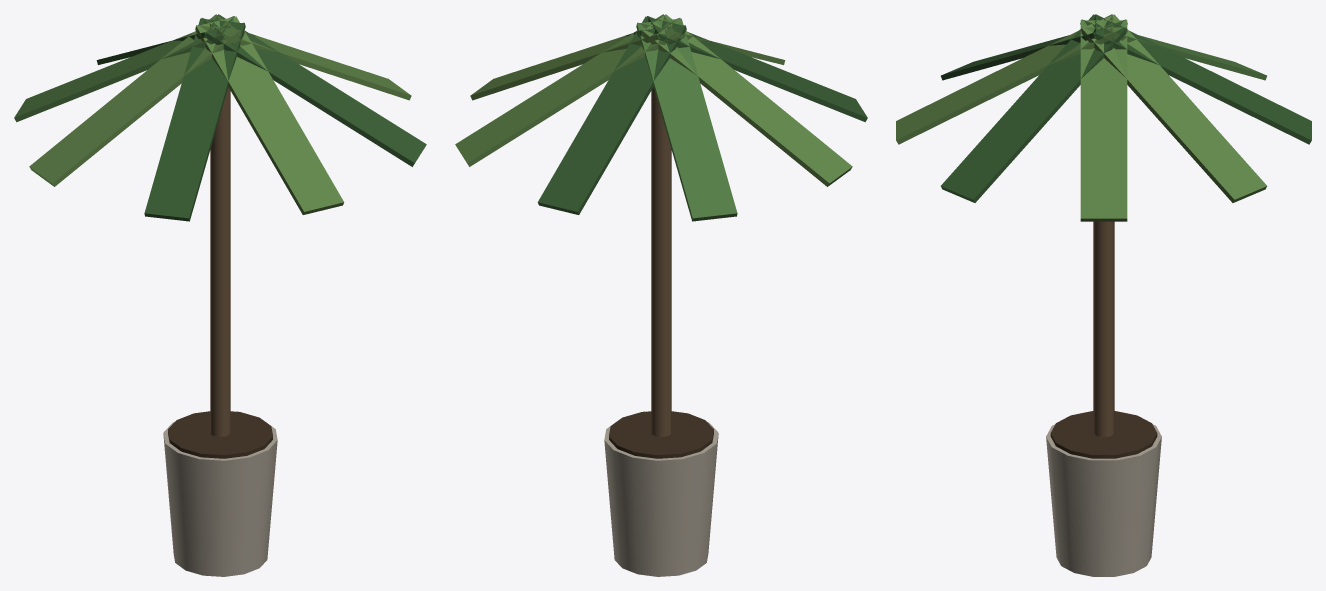
File: palmeira.glb
3 renders of one model, left to right at view 1: azimuth 30°, elevation 25°; view 2: azimuth 150°, elevation 25°; view 3: azimuth 270°, elevation 25°, orthographic.
Parts seen in each view (by area): view 1: palmeira_malha; view 2: palmeira_malha; view 3: palmeira_malha.
Boxes of the visible parts, x1,y1,x2,y2 form: palmeira_malha: (14, 14, 426, 576); palmeira_malha: (455, 14, 867, 576); palmeira_malha: (896, 14, 1311, 576).
Bounding box in the file's own units: 1.58 × 2.23 × 1.58.
